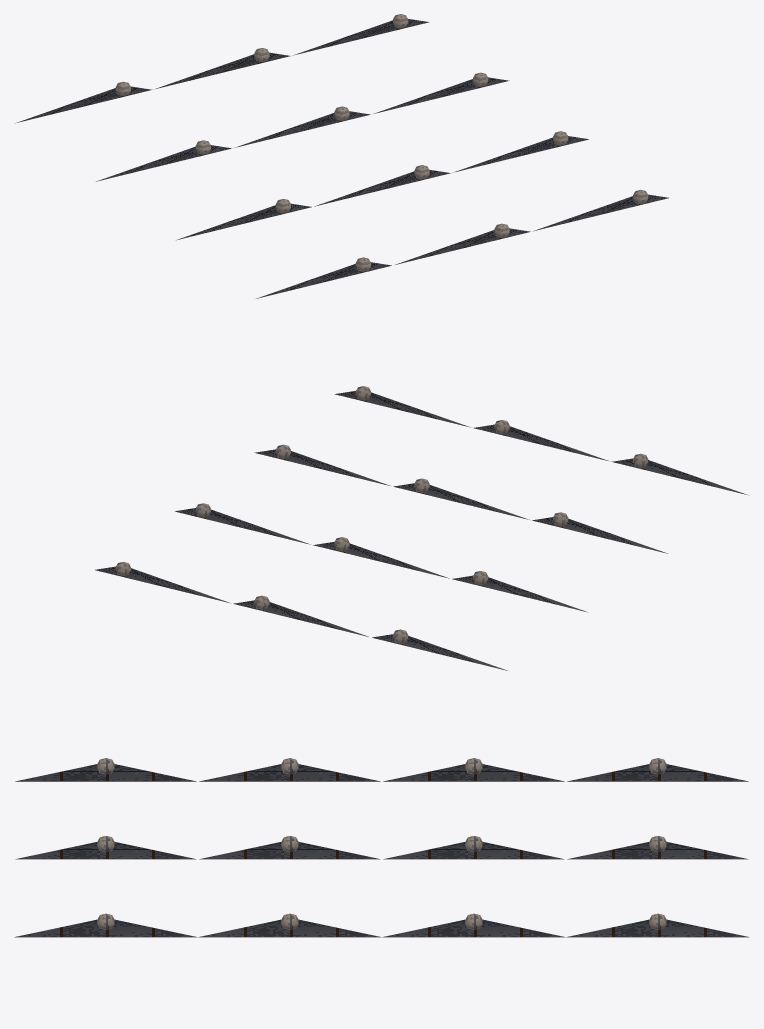
Rendered from dgn.ceiling__groin_3x4.glb.
The picture shows the model from 3 angles, top to bottom: view 1: azimuth 30°, elevation 25°; view 2: azimuth 150°, elevation 25°; view 3: azimuth 270°, elevation 25°; orthographic projection. The views are drawn at different scales.
Visible parts, largest first — view 1: kit_shell_groin, kit_boss; view 2: kit_shell_groin, kit_boss; view 3: kit_shell_groin, kit_boss.
Boxes of the visible parts, x1,y1,x2,y2 form: kit_shell_groin: [15, 19, 668, 298]; kit_boss: [115, 14, 648, 271]; kit_shell_groin: [95, 391, 748, 670]; kit_boss: [115, 386, 648, 643]; kit_shell_groin: [14, 764, 749, 937]; kit_boss: [97, 758, 666, 929].
Size of the model in its own units: 12 by 1.48 by 16.
Materials: 2 (2 with a texture image).
